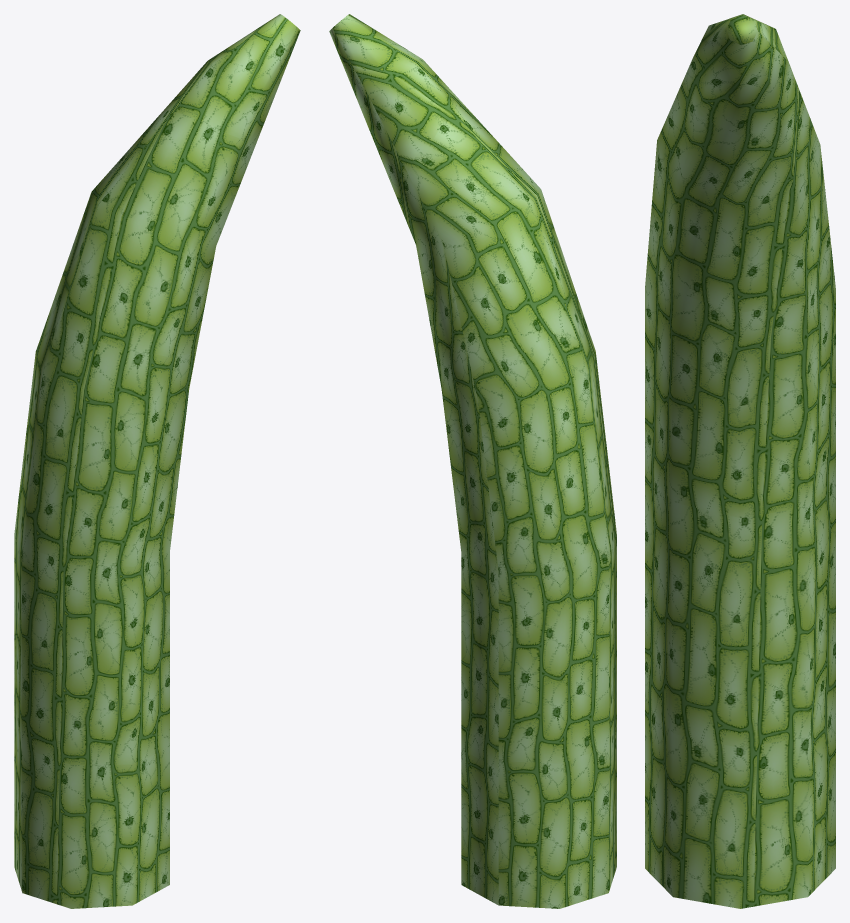
Rendered from phytohormones.fbx.
3 renders of one model, left to right at view 1: azimuth 30°, elevation 25°; view 2: azimuth 150°, elevation 25°; view 3: azimuth 270°, elevation 25°, orthographic. The views are drawn at different scales.
Parts seen in each view (by area): view 1: phytohormones; view 2: phytohormones; view 3: phytohormones.
Boxes of the visible parts, x1,y1,x2,y2 form: phytohormones: (14, 14, 300, 908); phytohormones: (329, 14, 616, 908); phytohormones: (645, 14, 835, 908).
Size of the model in its own units: 217 by 609 by 109.
Materials: 1 (1 with a texture image).
